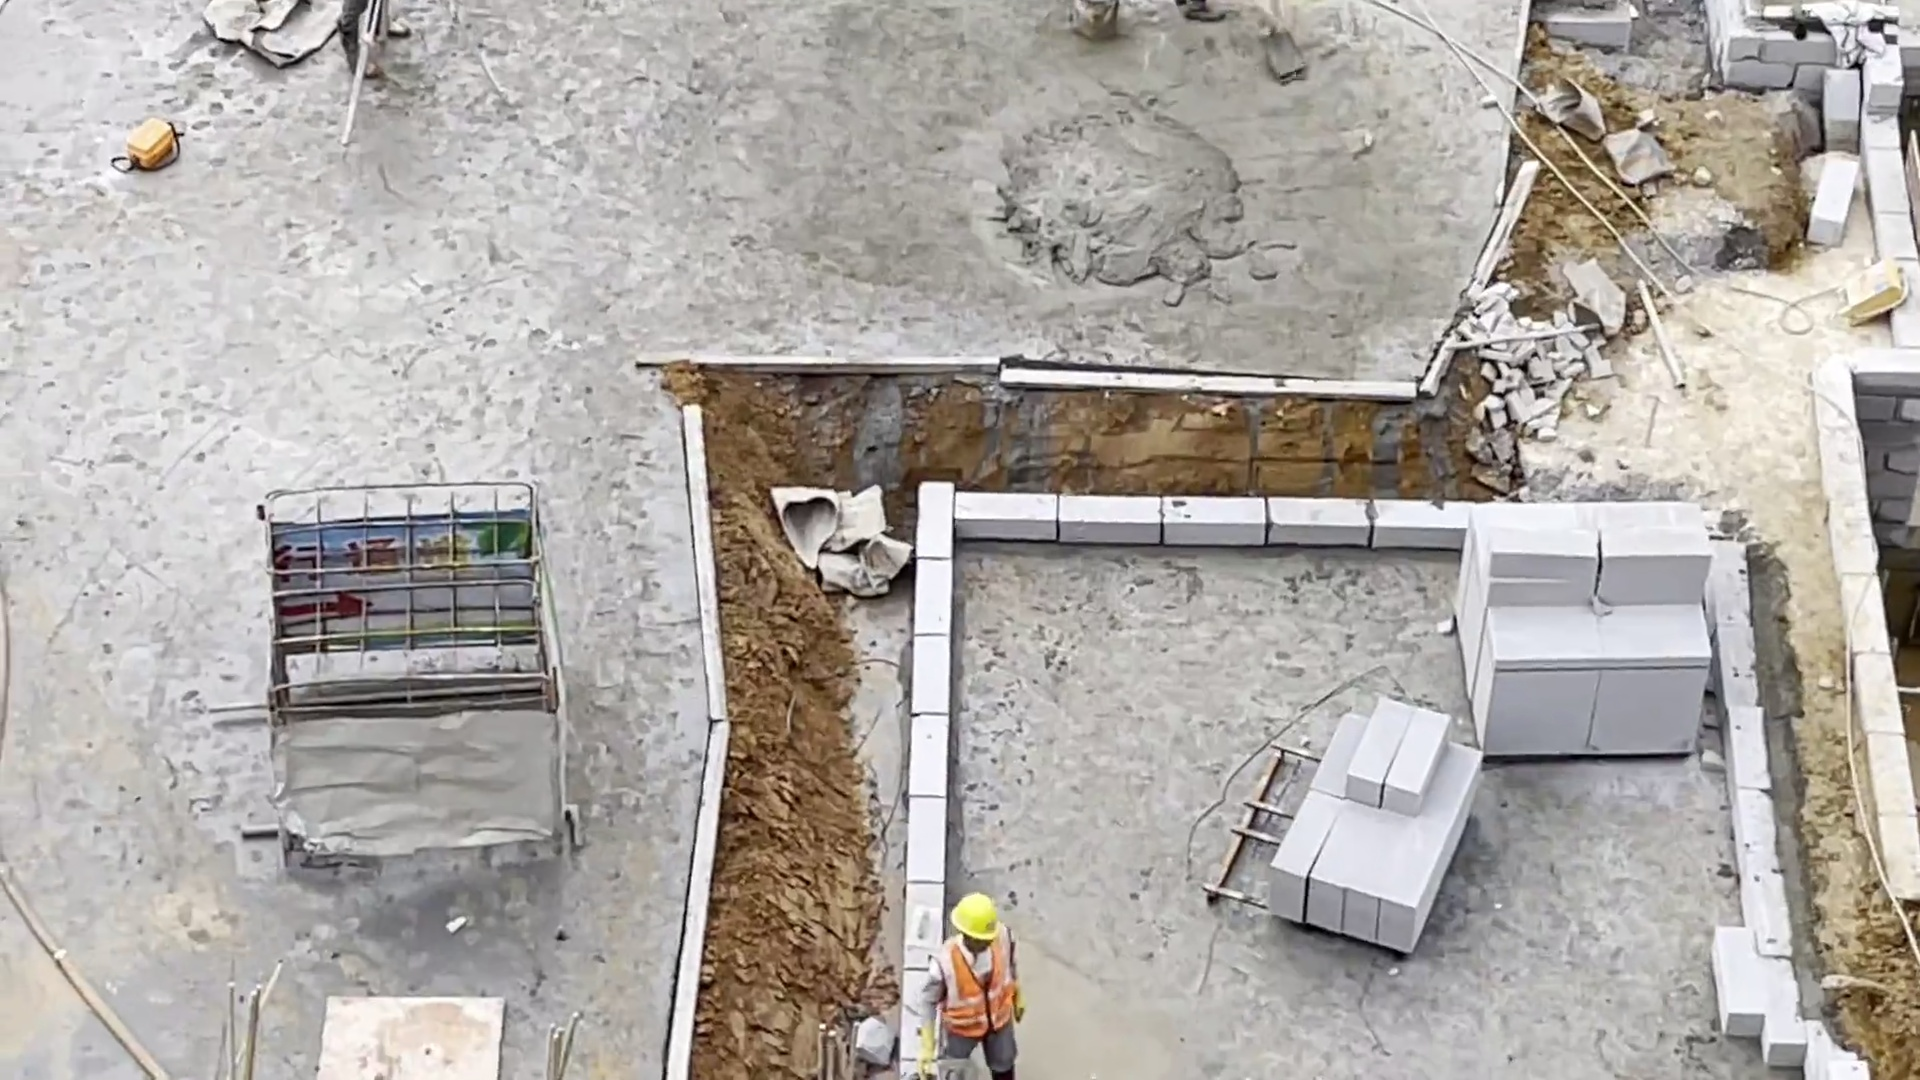brick: (1451, 499, 1709, 761), (1266, 694, 1477, 956)
helmet: (950, 891, 1005, 943)
person: (922, 894, 1028, 1079), (338, 1, 408, 74)
